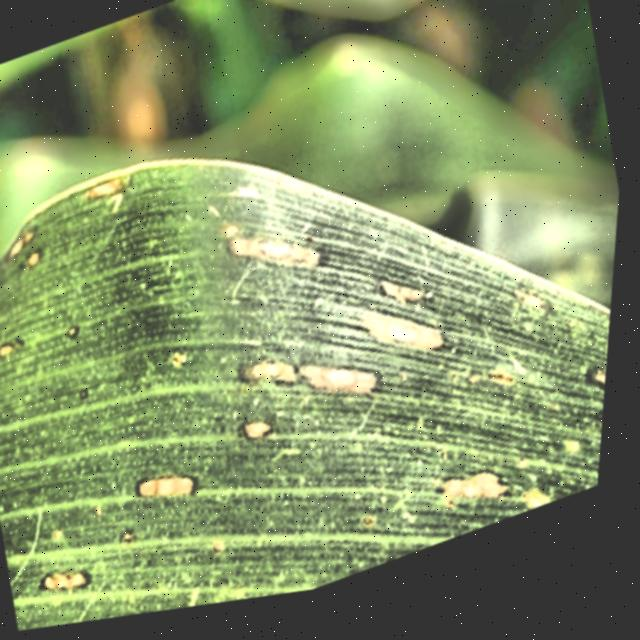gray_spot: (0, 159, 611, 630)
